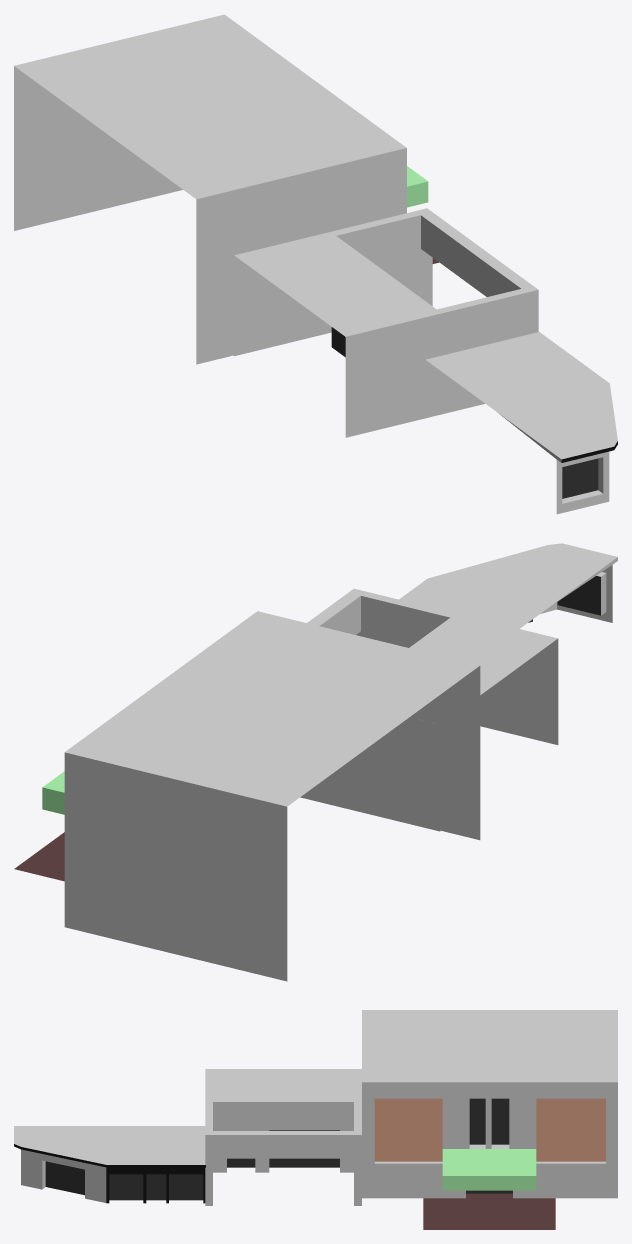
File: Edificio-4-Izquierda.fbx
3 renders of one model, top to bottom at view 1: azimuth 30°, elevation 25°; view 2: azimuth 150°, elevation 25°; view 3: azimuth 270°, elevation 25°, orthographic. The views are drawn at different scales.
Visible parts, largest first — view 1: Plane3; view 2: Plane3; view 3: Plane3.
Boxes of the visible parts, box(x1,y1,x2,y2) form: Plane3: box(14, 14, 617, 514); Plane3: box(14, 543, 617, 981); Plane3: box(14, 1010, 617, 1229).
Bounding box in the file's own units: 3450 × 1810 × 8490.
